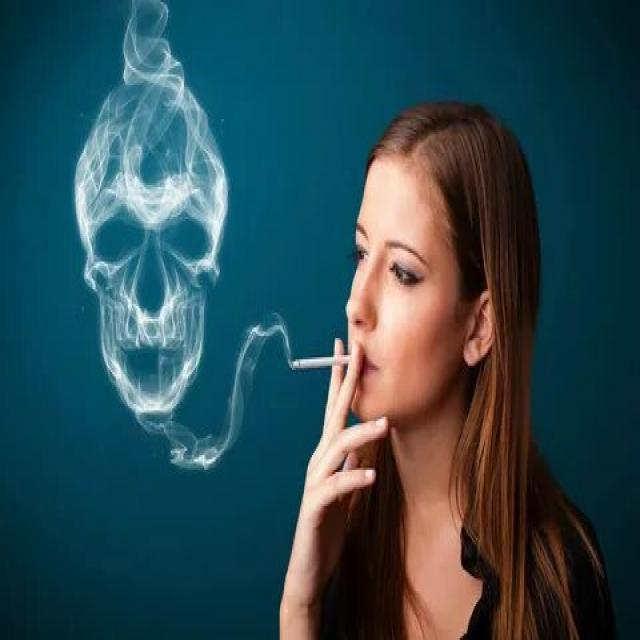smoke: (286, 347, 366, 374)
